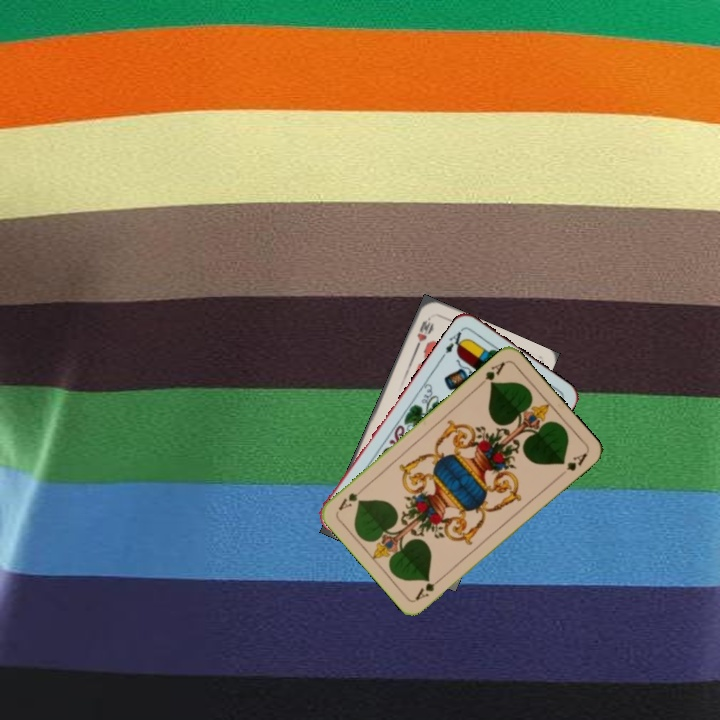EA: (441, 325, 469, 356)
GA: (411, 572, 445, 603), (475, 358, 508, 389)
H10: (411, 313, 436, 351)
